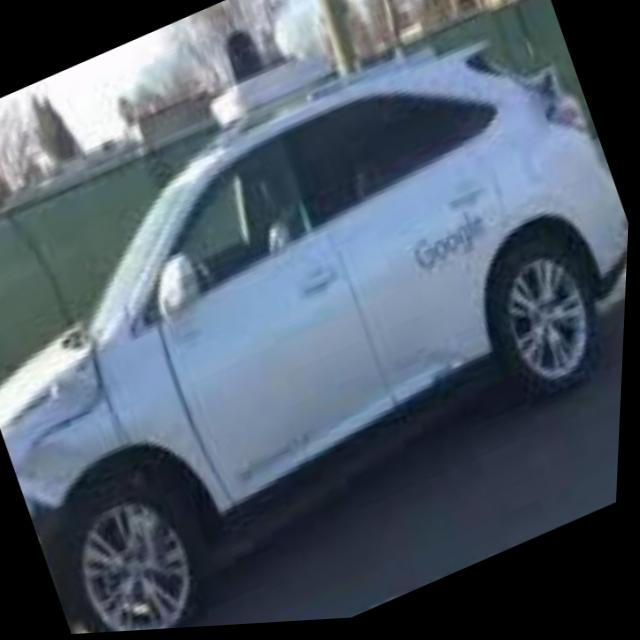dent: (0, 331, 118, 635)
